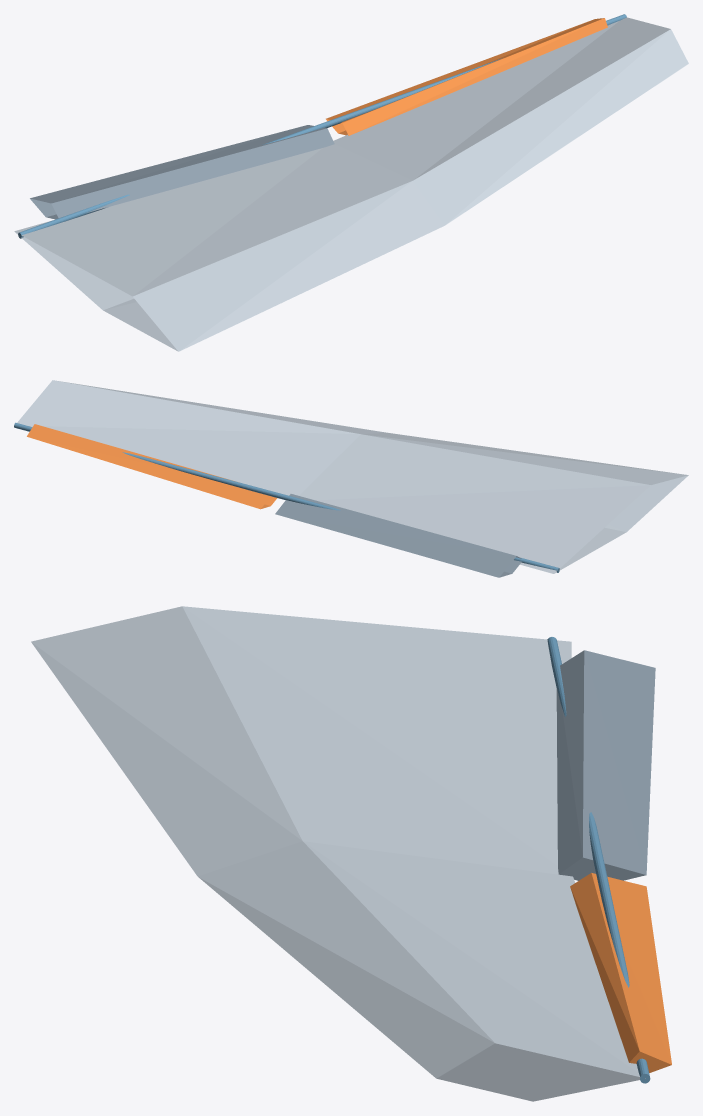
File: aileron.glb
3 renders of one model, top to bottom at view 1: azimuth 30°, elevation 25°; view 2: azimuth 150°, elevation 25°; view 3: azimuth 270°, elevation 25°, orthographic. The views are drawn at different scales.
Bounding box in the file's own units: 8.01 × 0.949 × 4.27.
